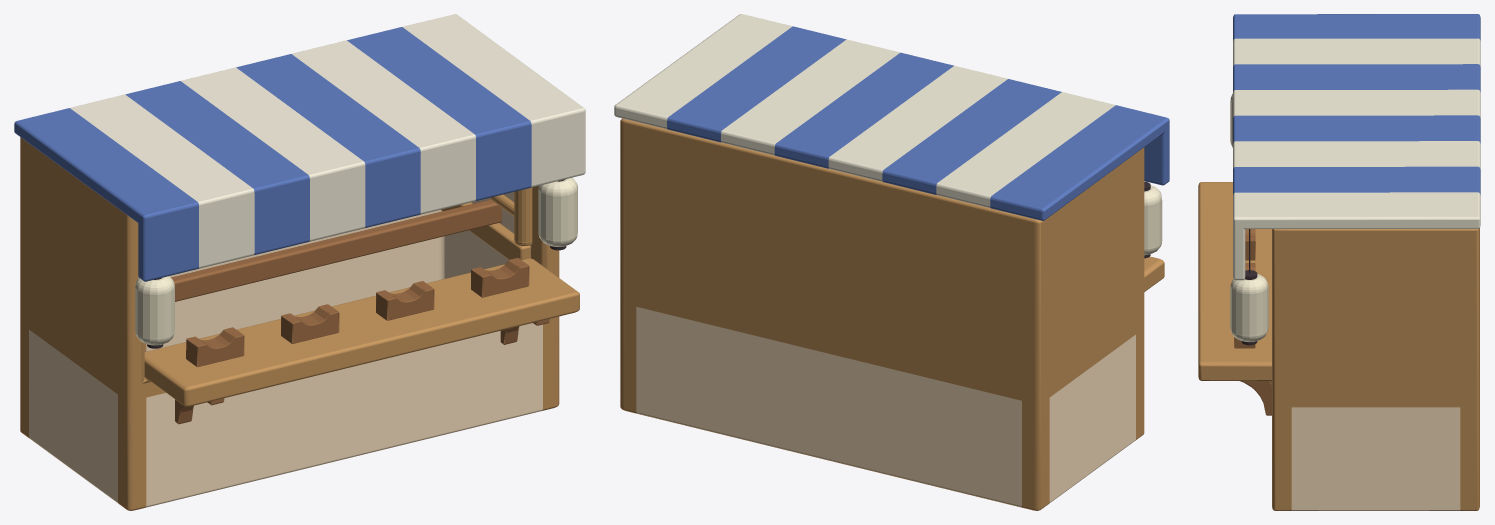
The model's file is Booth.fbx.
3 views of the same model, side by side, from view 1: azimuth 30°, elevation 25°; view 2: azimuth 150°, elevation 25°; view 3: azimuth 270°, elevation 25° (orthographic). The views are drawn at different scales.
Parts seen in each view (by area): view 1: Booth; view 2: Booth; view 3: Booth.
Part boxes in pixels (x1,y1,x2,y2): Booth: (14, 14, 585, 510); Booth: (614, 14, 1169, 510); Booth: (1198, 14, 1480, 510).
Bounding box in the file's own units: 930 × 628 × 541.
